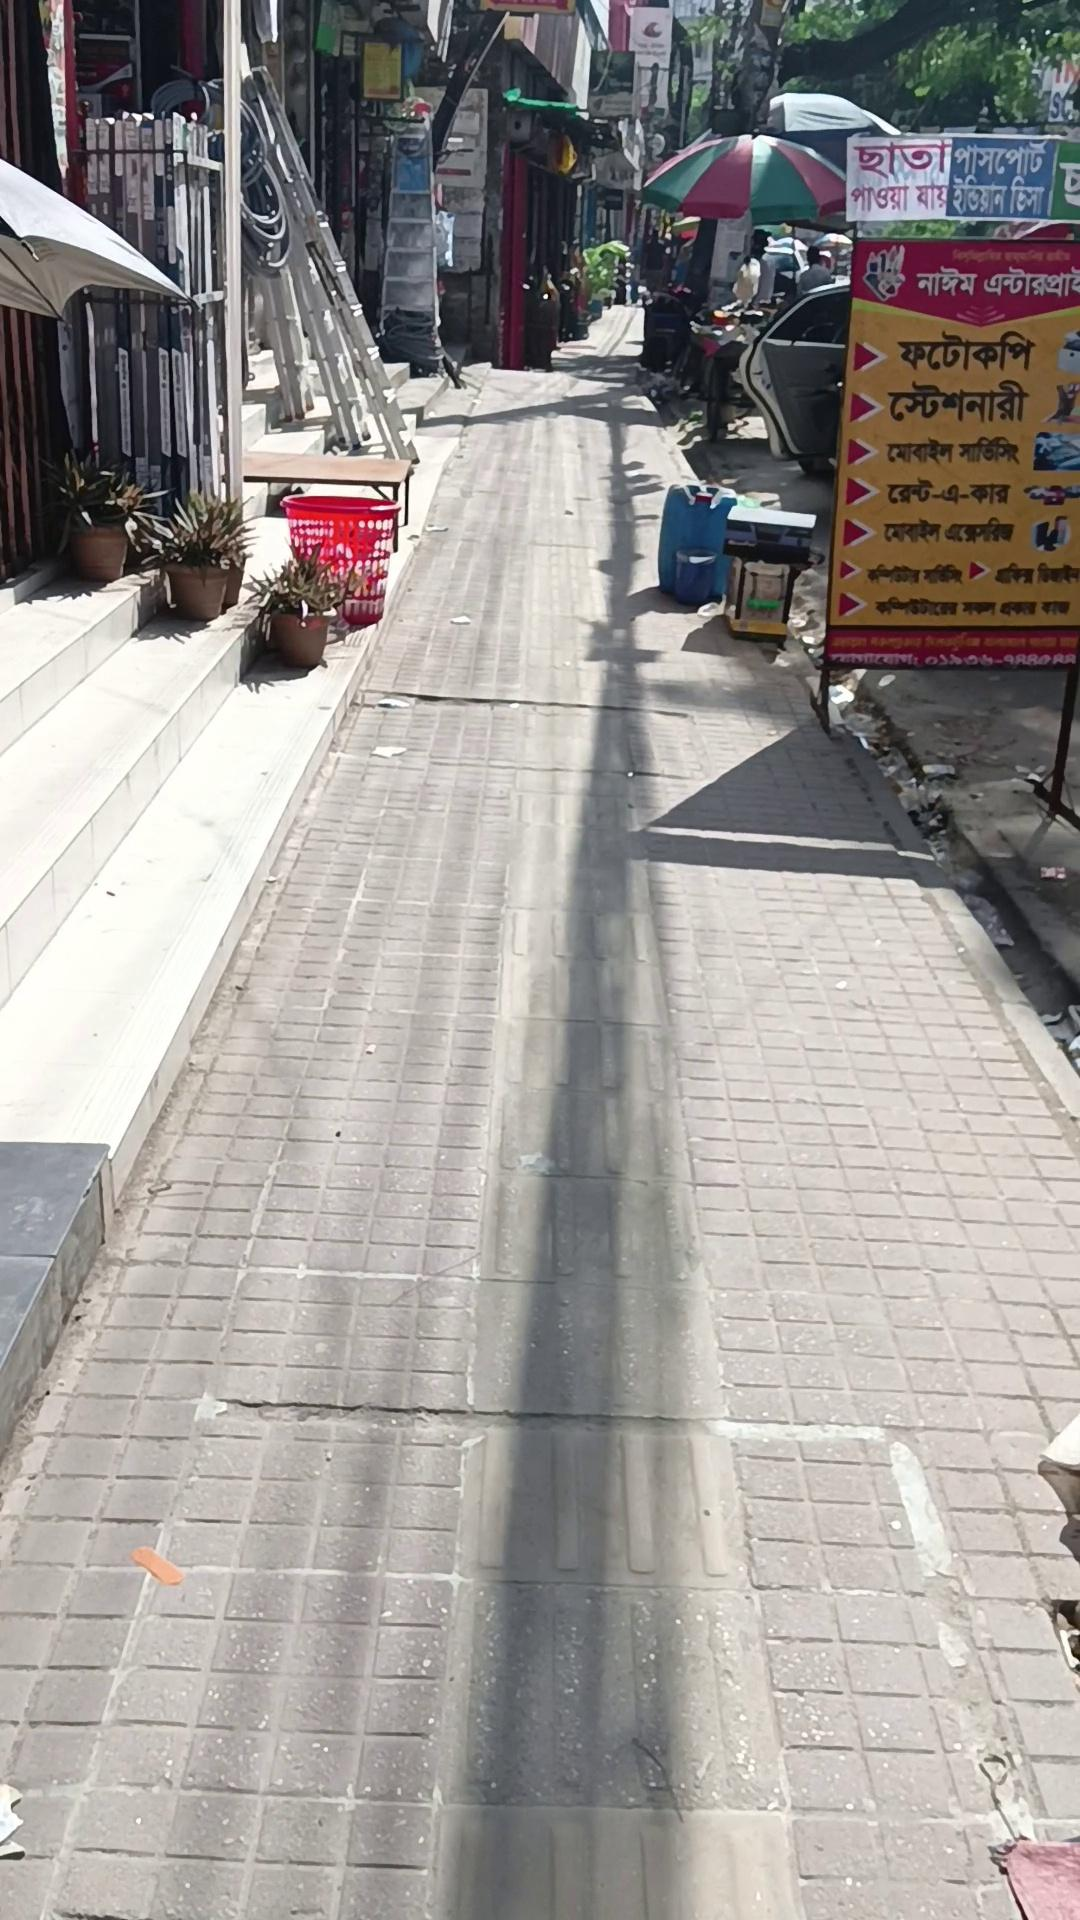Broken-road: (1, 578, 272, 1007)
Car: (0, 105, 232, 584)
Cat: (281, 493, 401, 626), (655, 480, 736, 605), (640, 291, 688, 372)
Crosswalk: (719, 504, 819, 646)
Fallen-tree: (38, 444, 169, 583), (129, 487, 258, 621), (244, 545, 365, 669)
Garbage: (0, 372, 1080, 1920)
